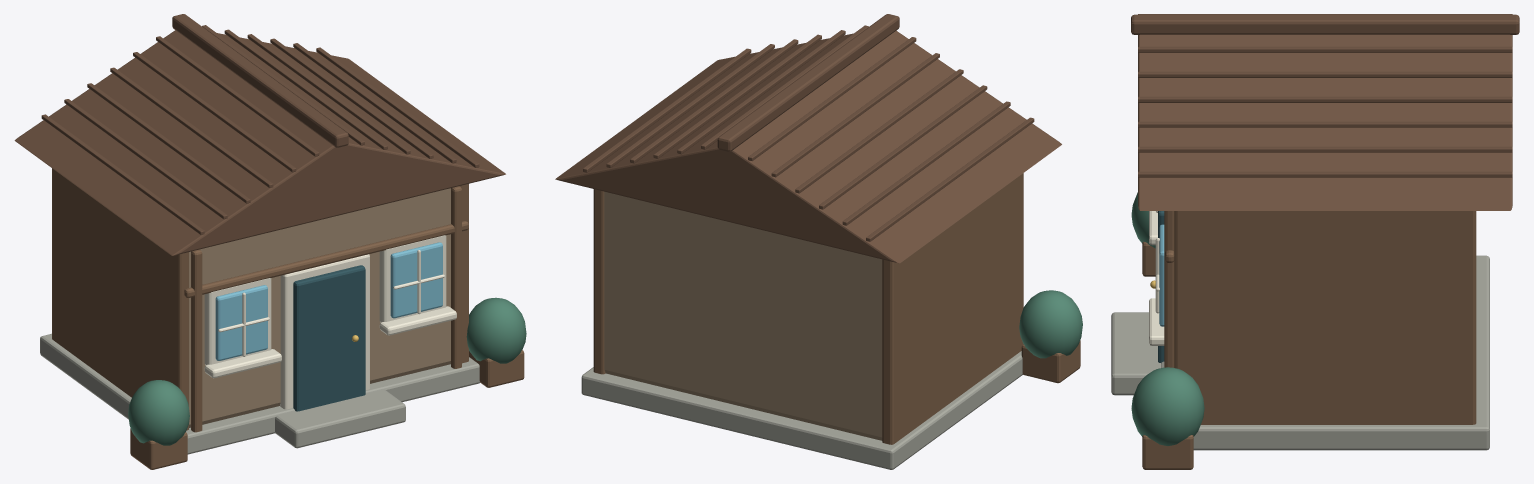
The model's file is house-dragon.glb.
3 renders of one model, left to right at view 1: azimuth 30°, elevation 25°; view 2: azimuth 150°, elevation 25°; view 3: azimuth 270°, elevation 25°, orthographic. The views are drawn at different scales.
Visible parts, largest first — view 1: Geometry_Roof, Geometry_Wood, Geometry_Wall, Geometry_Foundation, Geometry_Door, Geometry_Trim, Geometry_Plant, Geometry_Glass; view 2: Geometry_Roof, Geometry_Wall, Geometry_Wood, Geometry_Foundation, Geometry_Plant; view 3: Geometry_Roof, Geometry_Wood, Geometry_Foundation, Geometry_Plant, Geometry_Trim, Geometry_Glass.
Boxes of the visible parts, x1,y1,x2,y2 form: Geometry_Roof: (14, 14, 505, 255); Geometry_Wood: (52, 168, 524, 469); Geometry_Wall: (189, 188, 450, 427); Geometry_Foundation: (40, 333, 479, 454); Geometry_Door: (293, 265, 365, 411); Geometry_Trim: (204, 235, 456, 409); Geometry_Plant: (128, 297, 526, 445); Geometry_Glass: (215, 242, 442, 360); Geometry_Roof: (555, 14, 1061, 263); Geometry_Wall: (604, 191, 882, 440); Geometry_Wood: (593, 173, 1080, 444); Geometry_Foundation: (581, 351, 1022, 469); Geometry_Plant: (1019, 290, 1082, 358); Geometry_Roof: (1131, 14, 1519, 210); Geometry_Wood: (1142, 211, 1476, 469); Geometry_Foundation: (1111, 255, 1489, 450); Geometry_Plant: (1131, 192, 1204, 445); Geometry_Trim: (1149, 211, 1164, 345); Geometry_Glass: (1159, 224, 1164, 326).
Size of the model in its own units: 5.8 by 4.19 by 4.46.
